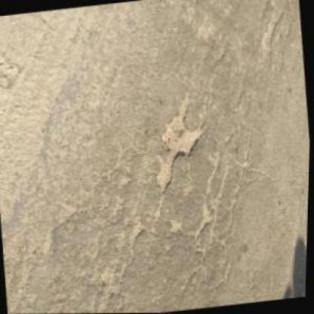Hueco: (147, 94, 210, 192)
